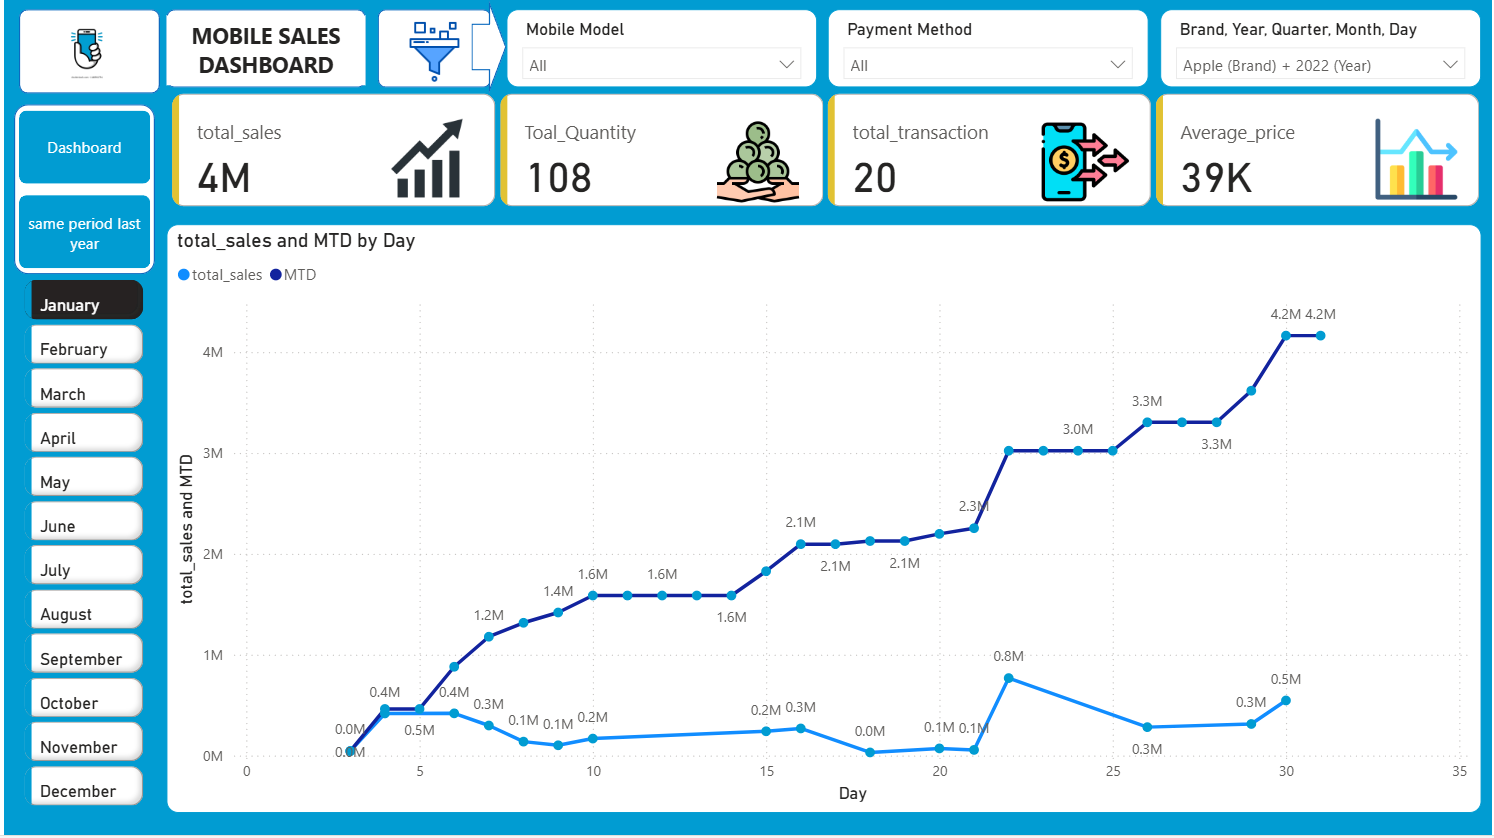

The page's visual inventory and layout, read from the dashboard file:
{"tool":"powerbi","page":{"name":"MTD REPORT","canvas":[1280,720],"ordinal":1},"visuals":[{"type":"shape","box":[12.5,10,121.2,72.5],"z":0},{"type":"image","box":[17.5,16.2,108.8,58.8],"z":1000},{"type":"shape","box":[321.2,10,97.5,67.5],"z":2000},{"type":"cardVisual","fields":{"Data":["mobile sales data.total_sales","mobile sales data.Toal_Quantity","mobile sales data.total_transaction","mobile sales data.Average_price"]},"box":[140,77.5,1137.5,107.5],"z":3000},{"type":"slicer","fields":{"Values":["mobile sales data.Mobile Model"]},"box":[432.5,10,267.5,67.5],"z":4000},{"type":"slicer","fields":{"Values":["mobile sales data.Payment Method"]},"box":[708.8,10,276.2,67.5],"z":5000},{"type":"slicer","fields":{"Values":["mobile sales data.Brand","custom_calender.Date.Variation.Date Hierarchy.Year","custom_calender.Date.Variation.Date Hierarchy.Quarter","custom_calender.Date.Variation.Date Hierarchy.Month","custom_calender.Date.Variation.Date Hierarchy.Day"]},"box":[995,10,276.2,67.5],"z":6000},{"type":"shape","box":[8.8,91.2,121.2,146.2],"z":7000},{"type":"image","box":[321.2,15,97.5,62.5],"z":8000},{"type":"shape","box":[402.5,2.5,30,80],"z":9000},{"type":"shape","box":[140,10,171.2,67.5],"z":10000},{"type":"textbox","box":[140,15,171.2,60],"z":11000},{"type":"lineChart","fields":{"Category":["custom_calender.Date.Variation.Date Hierarchy.Day"],"Y":["mobile sales data.total_sales","mobile sales data.MTD"]},"box":[140,195,1131.2,506.2],"z":12000},{"type":"advancedSlicerVisual","fields":{"Values":["custom_calender.Date.Variation.Date Hierarchy.Month"]},"box":[12.5,237.5,112.5,463.8],"z":13000},{"type":"pageNavigator","box":[12.5,96.2,113.8,137.5],"z":13001}]}

Visuals, with their boxes in screenshot pixels (x1, y1, x2, y2), scaled from the page's 1280x720 canvas onto the 1494x838 screenshot:
shape: 15 12 156 96
image: 20 19 147 87
shape: 375 12 489 90
cardVisual - mobile sales data.total_sales x mobile sales data.Toal_Quantity: 163 90 1491 215
slicer - mobile sales data.Mobile Model: 505 12 817 90
slicer - mobile sales data.Payment Method: 827 12 1150 90
slicer - mobile sales data.Brand x custom_calender.Date.Variation.Date Hierarchy.Year: 1161 12 1484 90
shape: 10 106 152 276
image: 375 17 489 90
shape: 470 3 505 96
shape: 163 12 363 90
textbox: 163 17 363 87
lineChart - custom_calender.Date.Variation.Date Hierarchy.Day x mobile sales data.total_sales: 163 227 1484 816
advancedSlicerVisual - custom_calender.Date.Variation.Date Hierarchy.Month: 15 276 146 816
pageNavigator: 15 112 147 272
